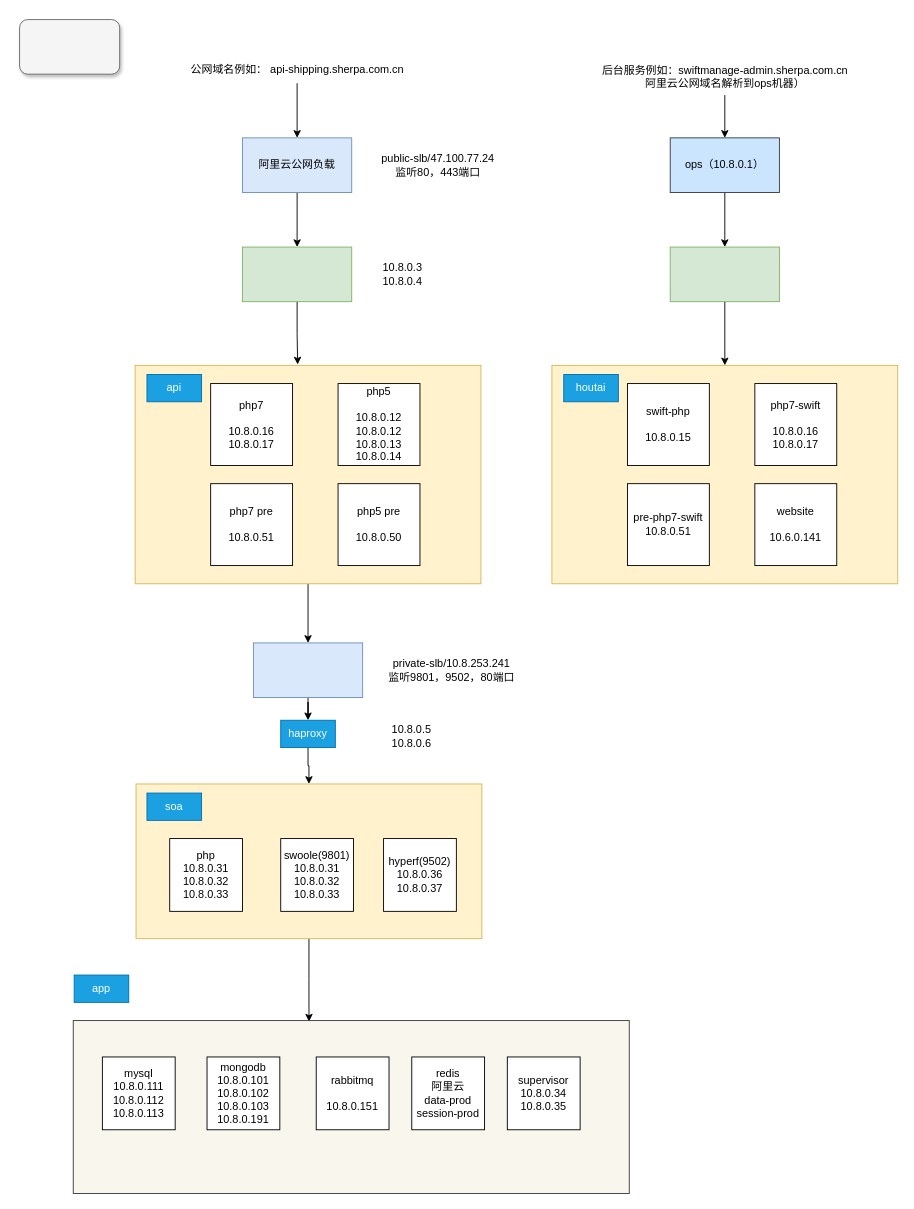
Some shapes in this 914 by 1209 pixel diagram are drawn without their labels. The centre of each missing label's shape, as x and y in pixels:
"kong" goes at point 297,274.
"nginx （new-houtai.conf）" goes at point 724,274.
"swift 架构" goes at point 70,48.
"阿里云私网负载" goes at point 308,670.
